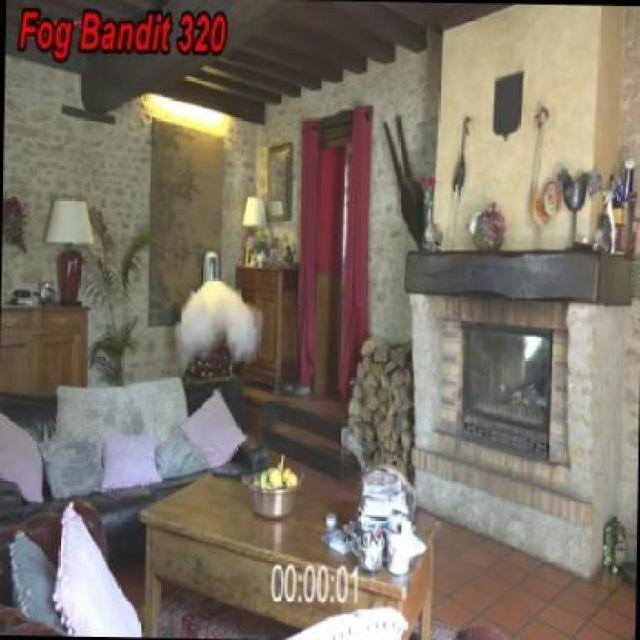fire: (174, 277, 262, 360)
